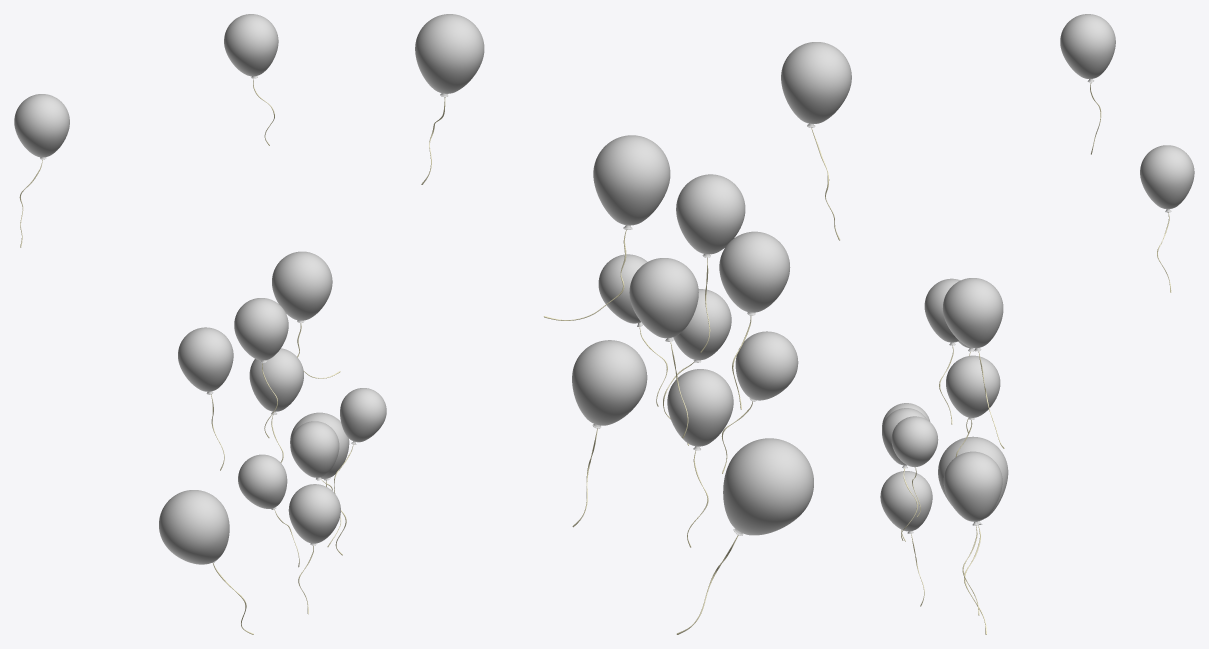
File: uploads_files_4263334_balloons.fbx
3 renders of one model, left to right at view 1: azimuth 30°, elevation 25°; view 2: azimuth 150°, elevation 25°; view 3: azimuth 270°, elevation 25°, orthographic. The views are drawn at different scales.
Visible parts, largest first — view 1: Sphere.012, Sphere.005, Sphere.001, Sphere.010, Sphere.003, Sphere.011, Sphere.006, Sphere.009, Sphere.004, Sphere.007, Sphere.002, Sphere.008; view 2: Sphere.012, Sphere.005, Sphere.008, Sphere.010, Sphere.001, Sphere.006, Sphere.003, Sphere.011, Sphere.009, Sphere.007, Sphere.004, Sphere.002; view 3: Sphere.005, Sphere.008, Sphere.010, Sphere.011, Sphere.006, Sphere.009, Sphere.002, Sphere.012, Sphere.003, Sphere.004.
Boxes of the visible parts, x1=… form: Sphere.012: x1=159, y1=490, x2=229, y2=564; Sphere.005: x1=272, y1=251, x2=332, y2=322; Sphere.001: x1=178, y1=327, x2=233, y2=394; Sphere.010: x1=14, y1=94, x2=69, y2=159; Sphere.003: x1=234, y1=298, x2=288, y2=362; Sphere.011: x1=224, y1=14, x2=278, y2=78; Sphere.006: x1=249, y1=348, x2=303, y2=414; Sphere.009: x1=288, y1=484, x2=340, y2=545; Sphere.004: x1=290, y1=421, x2=339, y2=480; Sphere.007: x1=238, y1=454, x2=287, y2=509; Sphere.002: x1=340, y1=388, x2=386, y2=444; Sphere.008: x1=290, y1=412, x2=349, y2=480; Sphere.012: x1=723, y1=438, x2=813, y2=535; Sphere.005: x1=593, y1=135, x2=670, y2=229; Sphere.008: x1=572, y1=340, x2=647, y2=428; Sphere.010: x1=781, y1=42, x2=851, y2=127; Sphere.001: x1=719, y1=231, x2=790, y2=315; Sphere.006: x1=629, y1=258, x2=698, y2=341; Sphere.003: x1=676, y1=174, x2=745, y2=257; Sphere.011: x1=415, y1=14, x2=484, y2=97; Sphere.009: x1=667, y1=369, x2=733, y2=450; Sphere.007: x1=735, y1=331, x2=798, y2=401; Sphere.004: x1=673, y1=289, x2=731, y2=362; Sphere.002: x1=598, y1=254, x2=647, y2=326; Sphere.005: x1=942, y1=278, x2=1003, y2=351; Sphere.008: x1=943, y1=451, x2=1002, y2=525; Sphere.010: x1=1060, y1=14, x2=1115, y2=82; Sphere.011: x1=1140, y1=145, x2=1194, y2=212; Sphere.006: x1=946, y1=355, x2=1000, y2=419; Sphere.009: x1=880, y1=471, x2=932, y2=533; Sphere.002: x1=891, y1=416, x2=938, y2=467; Sphere.012: x1=938, y1=436, x2=1008, y2=524; Sphere.003: x1=924, y1=278, x2=960, y2=345; Sphere.004: x1=882, y1=408, x2=927, y2=468.
Bounding box in the file's own units: 833 × 1450 × 764.
